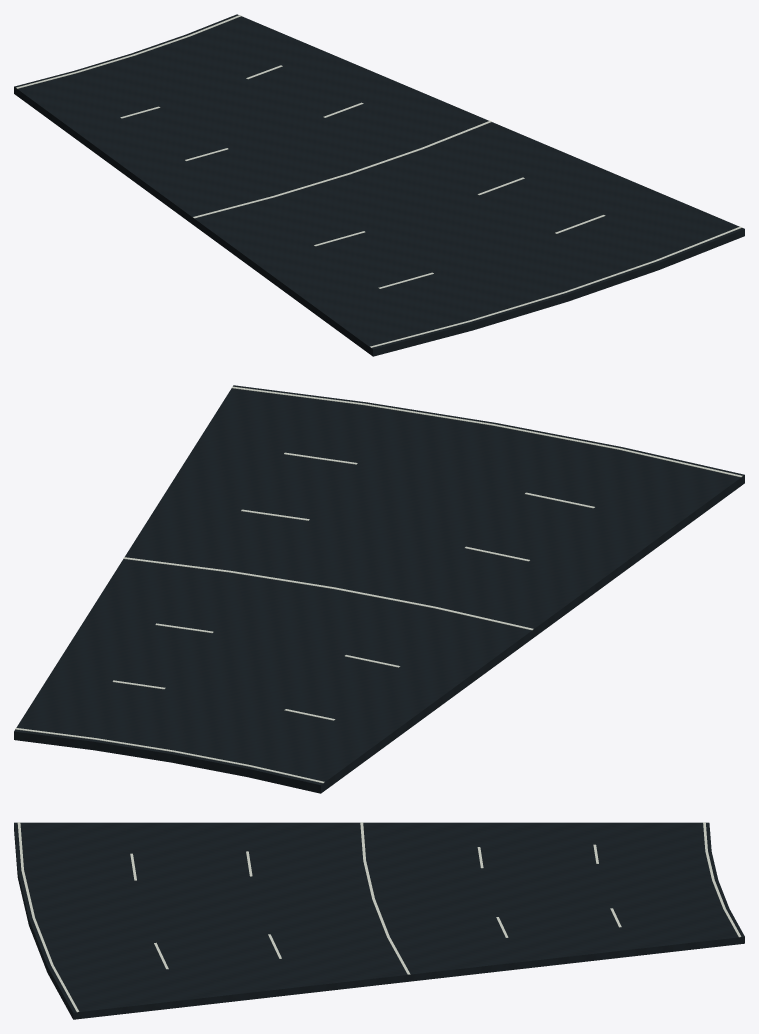
Rendered from Transit_Road_6L_Curve15_R36.glb.
3 views of the same model, one above another, from view 1: azimuth 30°, elevation 25°; view 2: azimuth 150°, elevation 25°; view 3: azimuth 270°, elevation 25° (orthographic). The views are drawn at different scales.
Visible parts, largest first — view 1: Transit_Road_6L_Curve15_R36_Surface, Transit_Road_6L_Curve15_R36_MarkEdge-1, Transit_Road_6L_Curve15_R36_MarkLane3; view 2: Transit_Road_6L_Curve15_R36_Surface, Transit_Road_6L_Curve15_R36_MarkEdge-1, Transit_Road_6L_Curve15_R36_MarkLane3, Transit_Road_6L_Curve15_R36_MarkEdge+1; view 3: Transit_Road_6L_Curve15_R36_Surface, Transit_Road_6L_Curve15_R36_MarkEdge-1, Transit_Road_6L_Curve15_R36_MarkLane3, Transit_Road_6L_Curve15_R36_MarkEdge+1.
Part boxes in pixels (x1=…): Transit_Road_6L_Curve15_R36_Surface: x1=14, y1=14, x2=744, y2=356; Transit_Road_6L_Curve15_R36_MarkEdge-1: x1=370, y1=226, x2=741, y2=347; Transit_Road_6L_Curve15_R36_MarkLane3: x1=193, y1=121, x2=491, y2=218; Transit_Road_6L_Curve15_R36_Surface: x1=14, y1=385, x2=744, y2=793; Transit_Road_6L_Curve15_R36_MarkEdge-1: x1=231, y1=386, x2=742, y2=477; Transit_Road_6L_Curve15_R36_MarkLane3: x1=123, y1=557, x2=533, y2=630; Transit_Road_6L_Curve15_R36_MarkEdge+1: x1=15, y1=728, x2=324, y2=783; Transit_Road_6L_Curve15_R36_Surface: x1=14, y1=822, x2=744, y2=1019; Transit_Road_6L_Curve15_R36_MarkEdge-1: x1=17, y1=822, x2=79, y2=1012; Transit_Road_6L_Curve15_R36_MarkLane3: x1=360, y1=822, x2=410, y2=974; Transit_Road_6L_Curve15_R36_MarkEdge+1: x1=703, y1=822, x2=741, y2=937.
Size of the model in its own units: 11.65 by 0.212 by 18.92.
2 materials, 1 textured.
